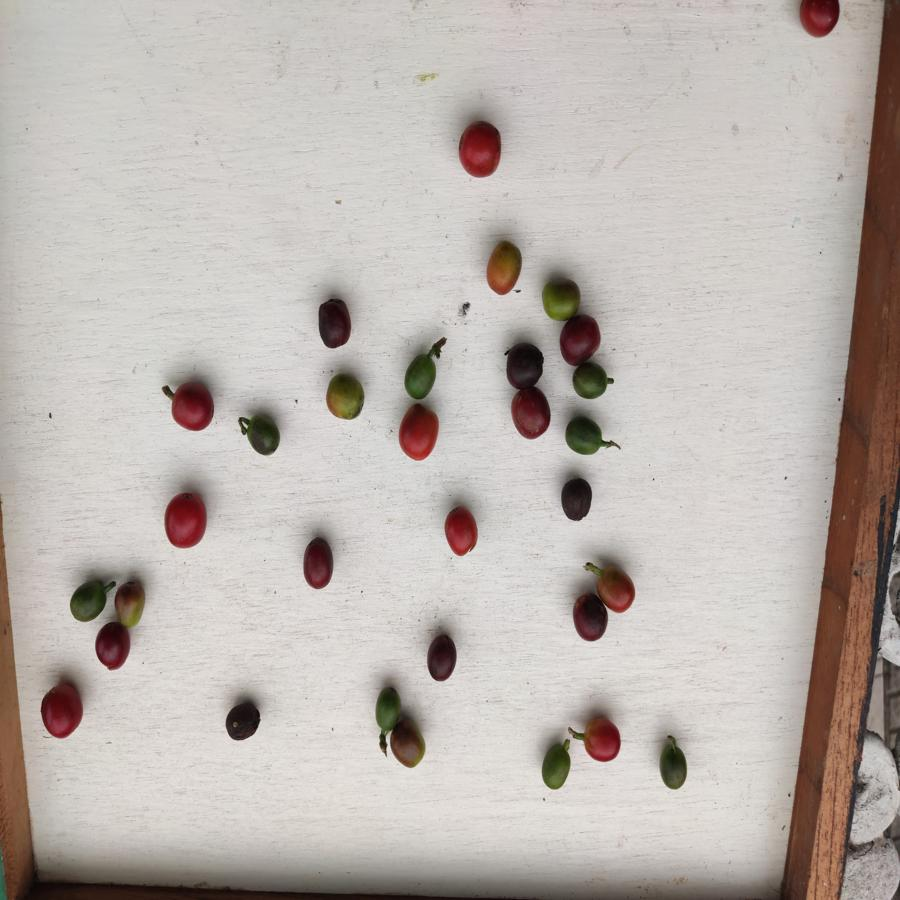Inmaduro: (654, 739, 691, 792), (538, 741, 572, 792), (68, 579, 108, 622), (404, 354, 439, 401), (565, 415, 605, 455), (244, 415, 282, 456), (571, 363, 612, 401), (369, 685, 399, 731)
Maduro: (456, 119, 505, 180), (161, 493, 208, 550), (38, 682, 84, 739), (398, 402, 438, 461), (169, 382, 215, 432), (580, 714, 622, 764), (442, 505, 479, 558), (593, 567, 636, 611), (798, 1, 845, 38)
Pinton: (481, 243, 525, 298), (322, 373, 367, 421), (388, 716, 427, 769), (539, 277, 585, 318), (115, 579, 145, 628)
Sobremaduro: (508, 386, 553, 442), (560, 315, 603, 364), (315, 297, 353, 346), (301, 537, 335, 591), (572, 593, 606, 644), (506, 345, 545, 389), (92, 627, 131, 669), (558, 476, 592, 524), (226, 698, 262, 743), (426, 634, 457, 682)
